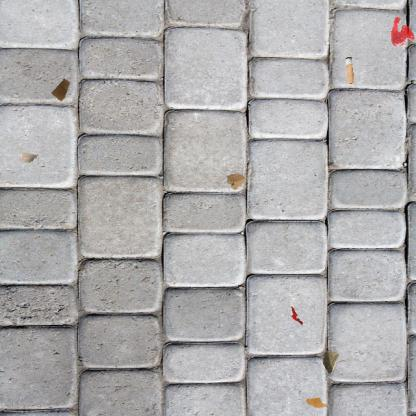dirty: (49, 76, 71, 103), (225, 171, 246, 191), (323, 349, 339, 373), (344, 55, 355, 86), (289, 305, 305, 325), (17, 150, 38, 165)
liquid: (391, 17, 415, 47), (306, 396, 327, 408)
